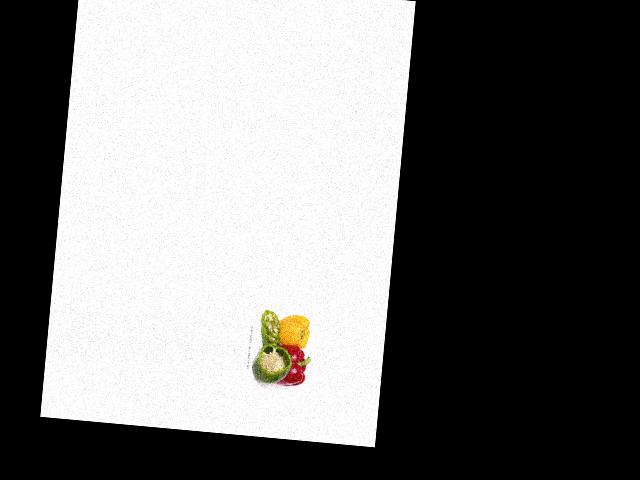bell_pepper: (253, 342, 294, 389)
